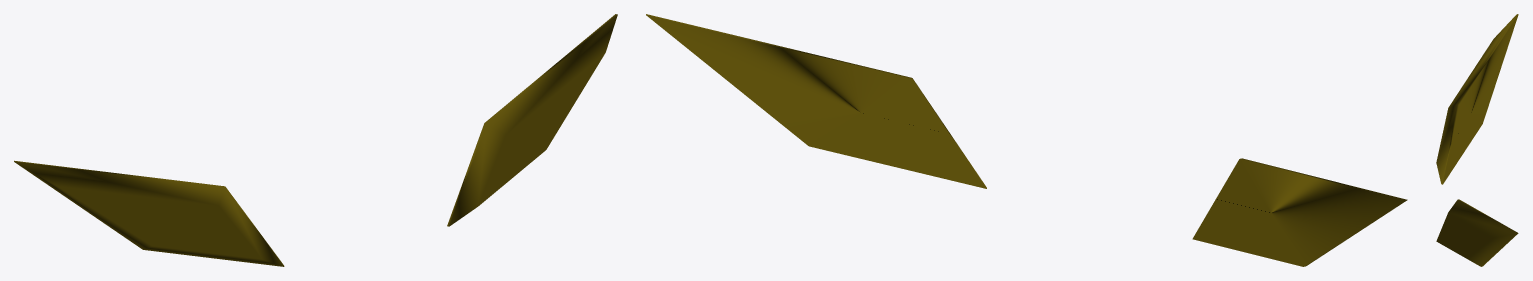
File: Sharp_Eyebrows.fbx
3 views of the same model, side by side, from view 1: azimuth 30°, elevation 25°; view 2: azimuth 150°, elevation 25°; view 3: azimuth 270°, elevation 25° (orthographic). The views are drawn at different scales.
Parts seen in each view (by area): view 1: Sharp_EyeBrow_R, Sharp_EyeBrow_L; view 2: Sharp_EyeBrow_L, Sharp_EyeBrow_R; view 3: Sharp_EyeBrow_R, Sharp_EyeBrow_L.
Part boxes in pixels (left/top/right/bottom): Sharp_EyeBrow_R: left=14, top=160, right=284, bottom=266; Sharp_EyeBrow_L: left=447, top=14, right=617, bottom=226; Sharp_EyeBrow_L: left=646, top=14, right=986, bottom=188; Sharp_EyeBrow_R: left=1192, top=158, right=1407, bottom=266; Sharp_EyeBrow_R: left=1436, top=14, right=1518, bottom=184; Sharp_EyeBrow_L: left=1436, top=199, right=1518, bottom=266.
Size of the model in its own units: 21.94 by 4.22 by 3.48.
